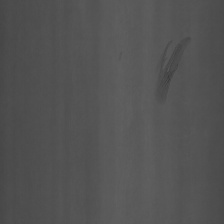water_spot: (154, 33, 194, 107)
